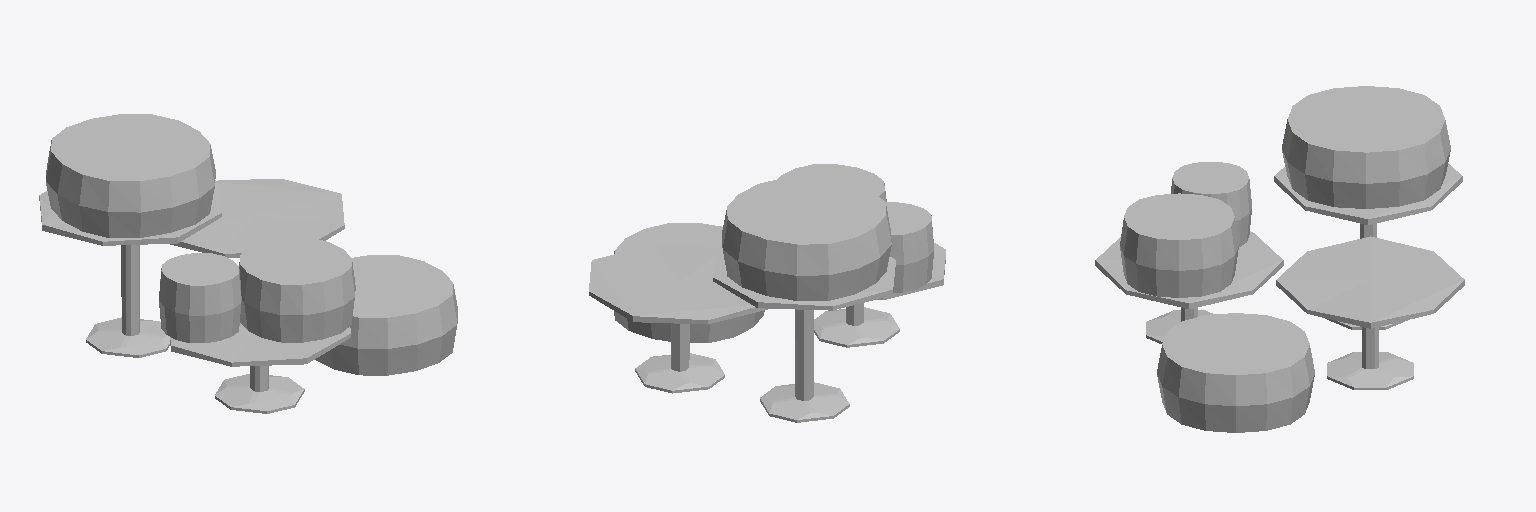
Rendered from Cake Cascade.obj.
The picture shows the model from 3 angles: view 1: azimuth 30°, elevation 25°; view 2: azimuth 150°, elevation 25°; view 3: azimuth 270°, elevation 25°; orthographic projection.
Visible parts, largest first — view 1: Cake_Cascade; view 2: Cake_Cascade; view 3: Cake_Cascade.
Boxes of the visible parts, x1=… form: Cake_Cascade: x1=39, y1=114, x2=457, y2=413; Cake_Cascade: x1=589, y1=164, x2=945, y2=422; Cake_Cascade: x1=1095, y1=86, x2=1464, y2=432.
Size of the model in its own units: 3.87 by 2.11 by 3.66.